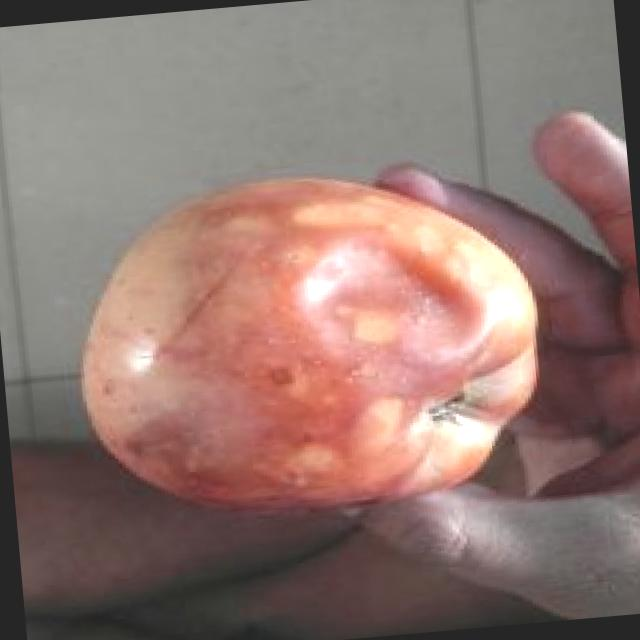Rotten_Apple: (49, 138, 568, 542)
